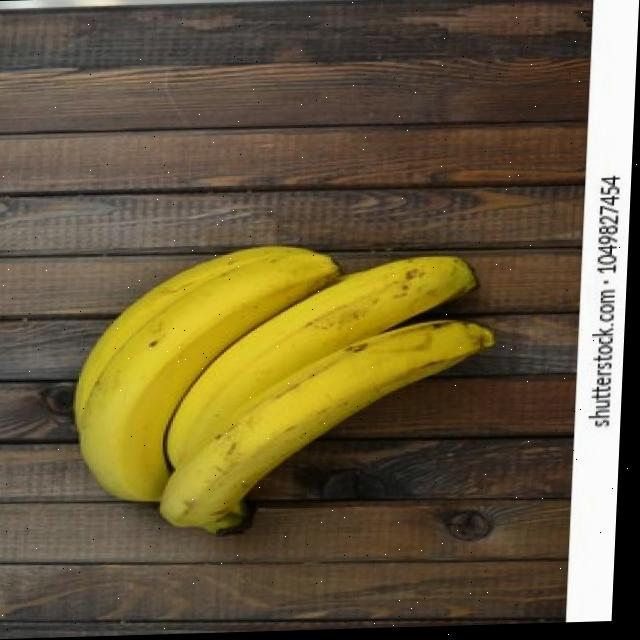banana: (55, 234, 510, 544)
